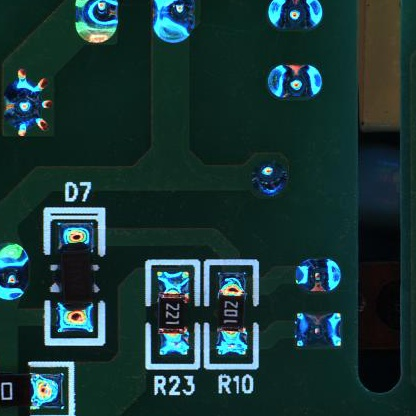spot: (1, 68, 52, 140), (266, 63, 322, 103), (153, 1, 198, 45), (74, 1, 119, 44), (265, 1, 323, 34), (293, 311, 343, 349), (1, 243, 32, 301), (294, 258, 342, 293), (249, 160, 292, 197)
